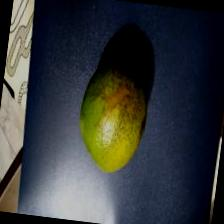Orange Rotten: (59, 46, 170, 191)
